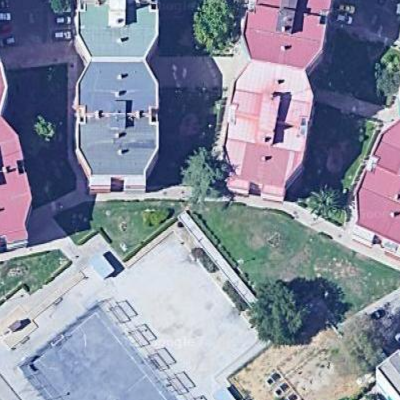tree: (246, 277, 309, 348), (188, 1, 245, 53), (179, 147, 223, 208), (370, 59, 400, 107), (309, 183, 343, 222)
